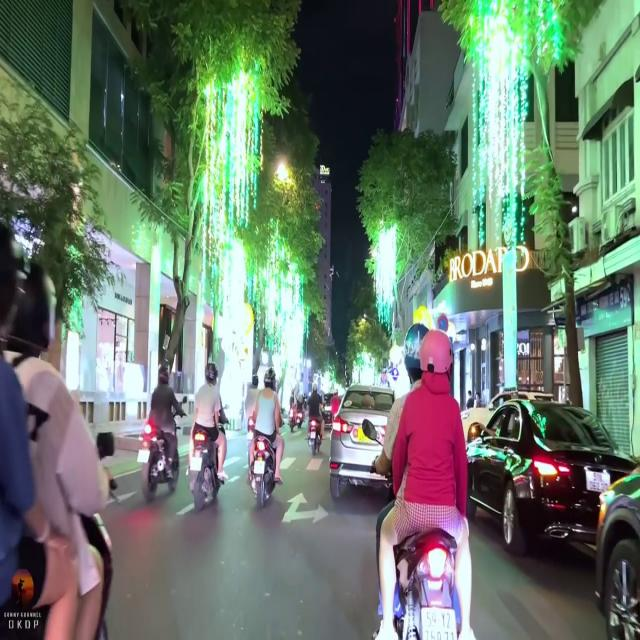bien_trang: (418, 599, 461, 640)
